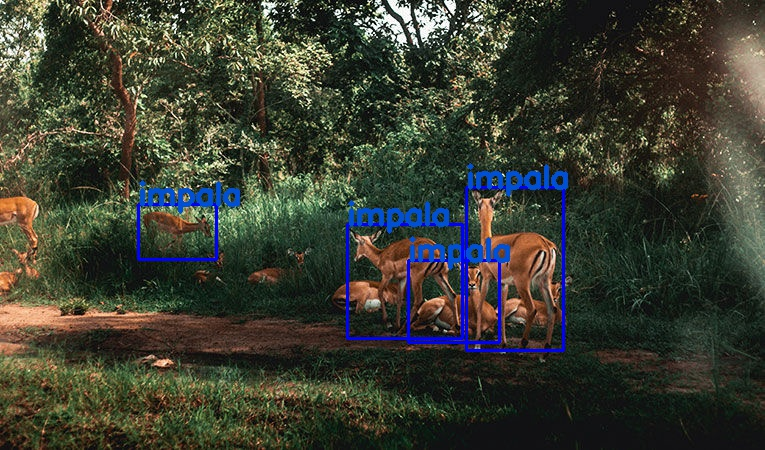impala: (466, 187, 562, 350), (346, 223, 461, 337), (407, 260, 498, 342), (138, 203, 216, 258)
